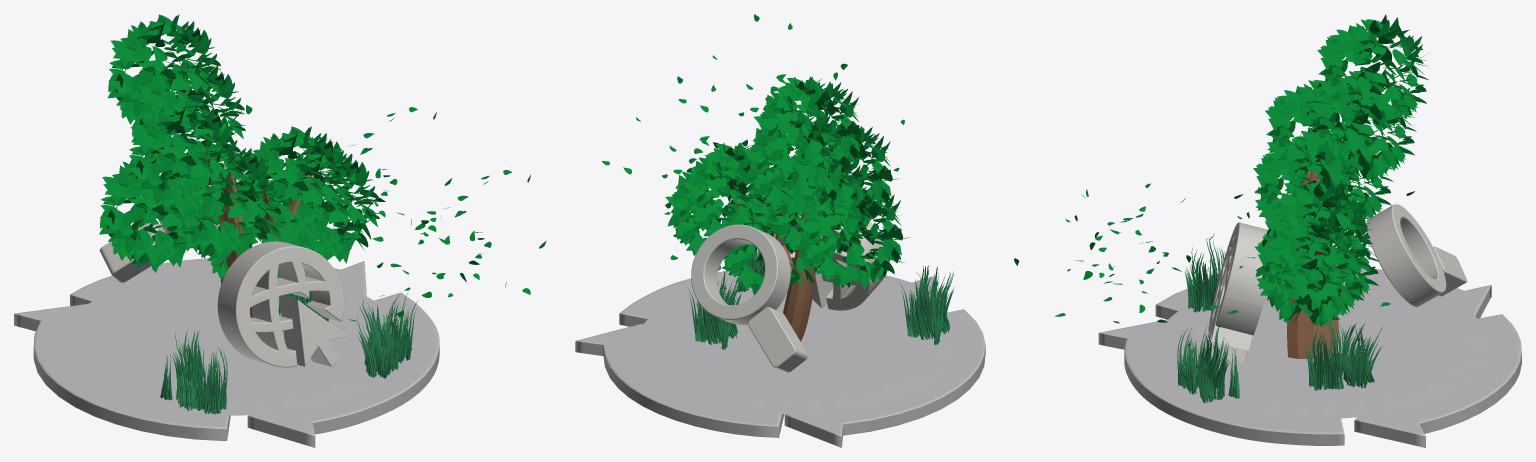
File: isl-transformed.glb
3 views of the same model, side by side, from view 1: azimuth 30°, elevation 25°; view 2: azimuth 150°, elevation 25°; view 3: azimuth 270°, elevation 25° (orthographic). The views are drawn at different scales.
Visible parts, largest first — view 1: arbre tronc_0, Curve.000_0, Curve_0; view 2: Curve.000_0, arbre tronc_0, Curve_0; view 3: arbre tronc_0, Curve.000_0, Curve_0.
Part boxes in pixels (<box>): arbre tronc_0: <box>99,14,546,414</box>; Curve.000_0: <box>14,258,439,447</box>; Curve_0: <box>99,162,347,367</box>; Curve.000_0: <box>575,271,985,447</box>; arbre tronc_0: <box>602,14,954,349</box>; Curve_0: <box>691,215,888,372</box>; arbre tronc_0: <box>1014,14,1428,403</box>; Curve.000_0: <box>1098,268,1521,447</box>; Curve_0: <box>1206,204,1467,363</box>.
Bounding box in the file's own units: 2.78 × 2.43 × 3.28.
Materials: 3 (3 with a texture image).
